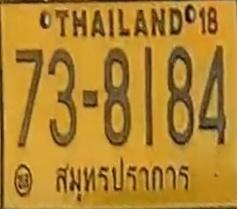1: (144, 46, 155, 145)
3: (47, 48, 78, 149)
5: (200, 45, 230, 145)
7: (15, 48, 43, 148)
8: (103, 47, 131, 146), (167, 44, 193, 145)
SPK: (50, 154, 195, 204)
